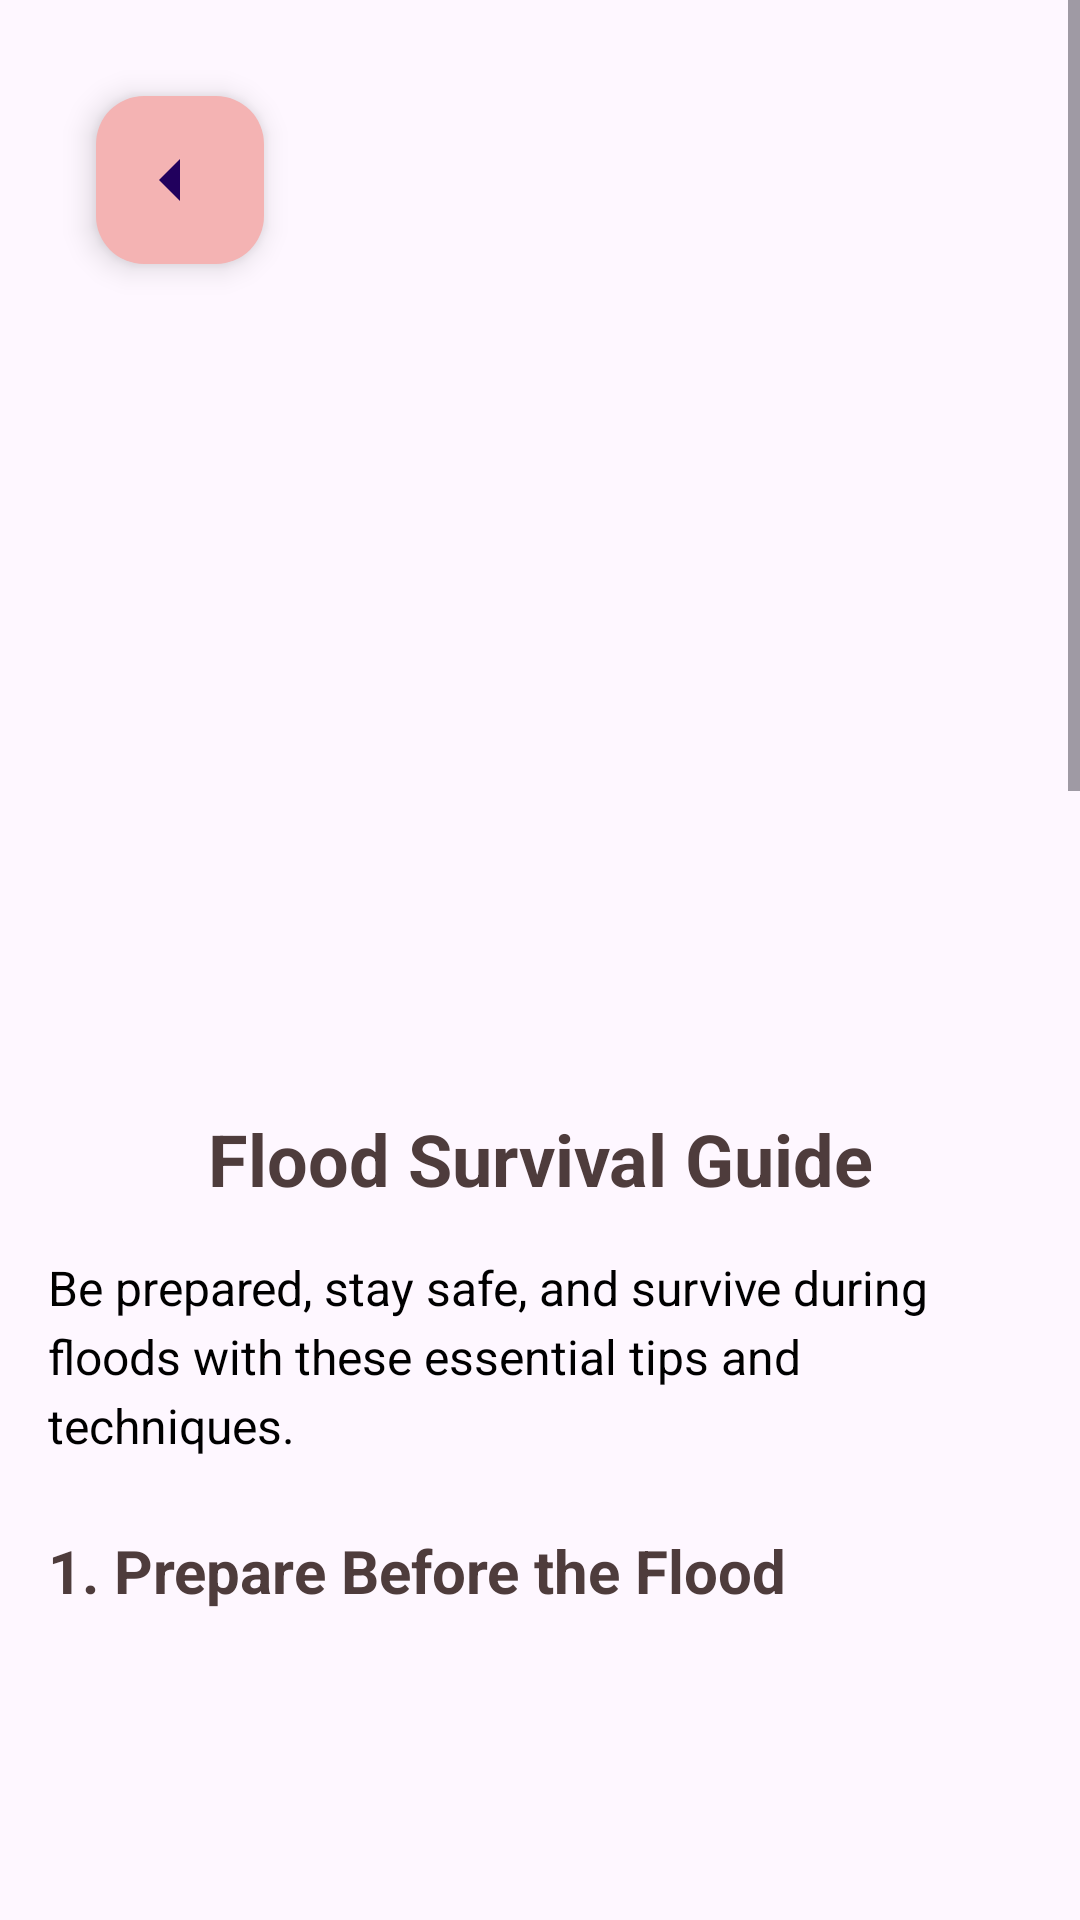

Screen size 1080 × 1920. Icon name, then its center in pixels as (x,y):
Back Button: (180,180)
